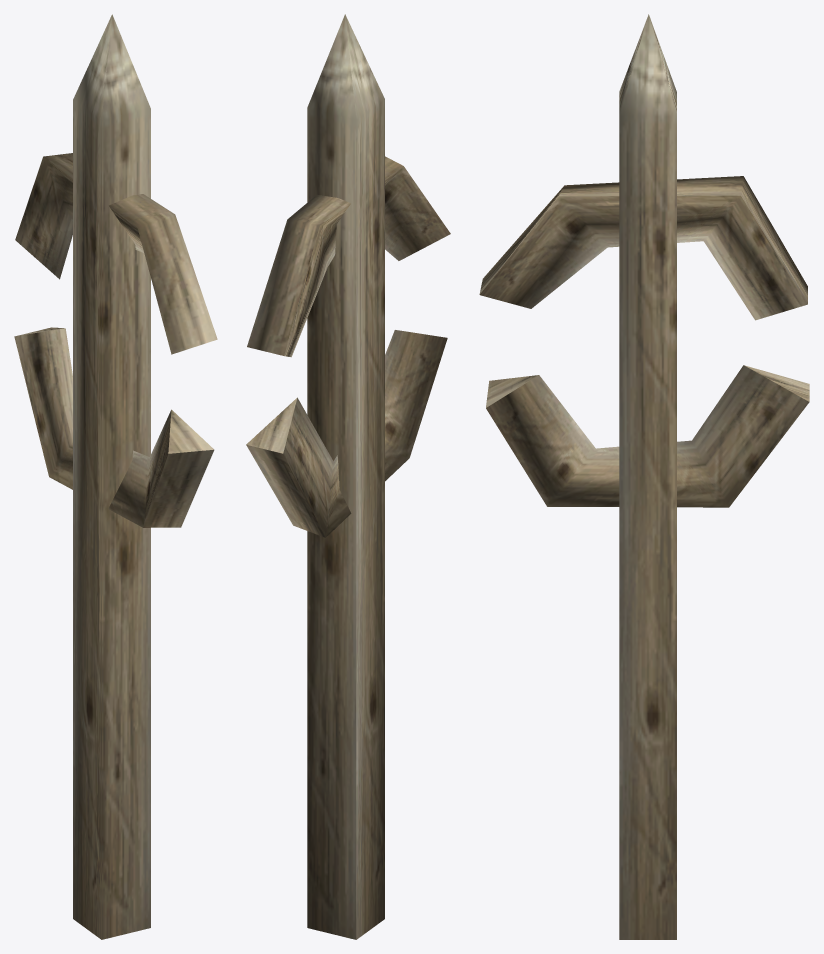
File: woodcross01.glb
The picture shows the model from 3 angles, left to right: view 1: azimuth 30°, elevation 25°; view 2: azimuth 150°, elevation 25°; view 3: azimuth 270°, elevation 25°; orthographic projection.
Bounding box in the file's own units: 0.131 × 2.31 × 0.7567.
1 material, 1 textured.
